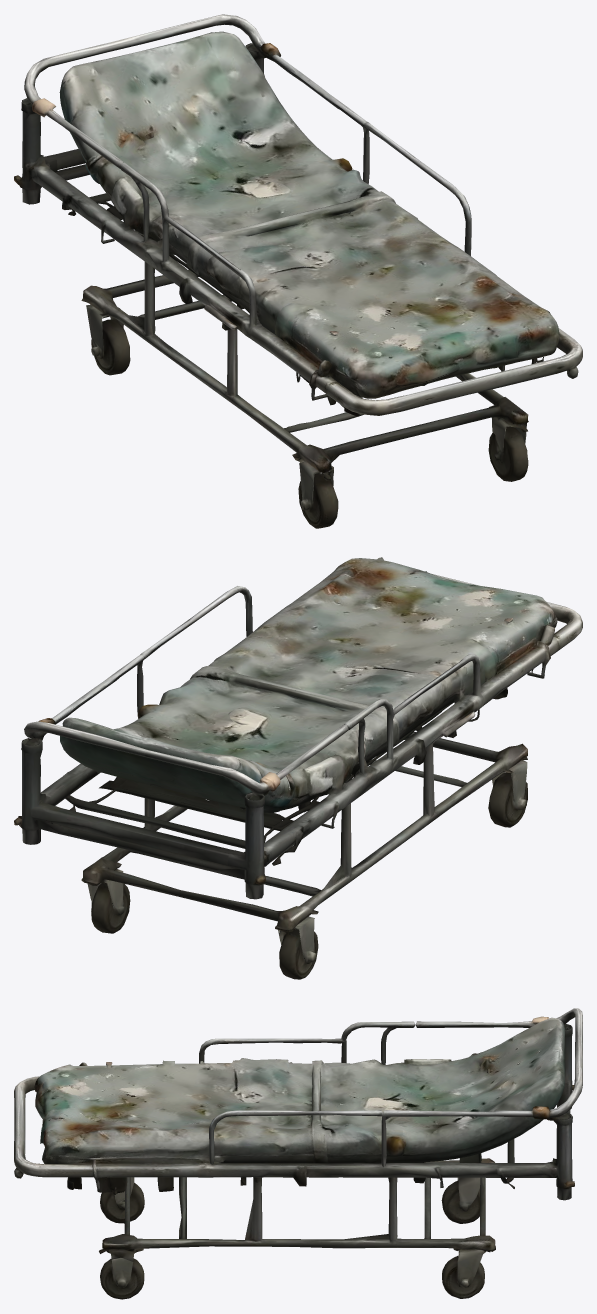
Rendered from gurney.glb.
3 views of the same model, one above another, from view 1: azimuth 30°, elevation 25°; view 2: azimuth 150°, elevation 25°; view 3: azimuth 270°, elevation 25° (orthographic). The views are drawn at different scales.
Parts seen in each view (by area): view 1: tripo_node_1f33ec3a-9adf-43ff-9b17-76b85cff80a8; view 2: tripo_node_1f33ec3a-9adf-43ff-9b17-76b85cff80a8; view 3: tripo_node_1f33ec3a-9adf-43ff-9b17-76b85cff80a8.
Part boxes in pixels (x1,y1,x2,y2): tripo_node_1f33ec3a-9adf-43ff-9b17-76b85cff80a8: (14, 14, 582, 528); tripo_node_1f33ec3a-9adf-43ff-9b17-76b85cff80a8: (14, 557, 582, 979); tripo_node_1f33ec3a-9adf-43ff-9b17-76b85cff80a8: (14, 1008, 582, 1299).
Bounding box in the file's own units: 0.4115 × 0.4154 × 1.
1 material, 1 textured.
